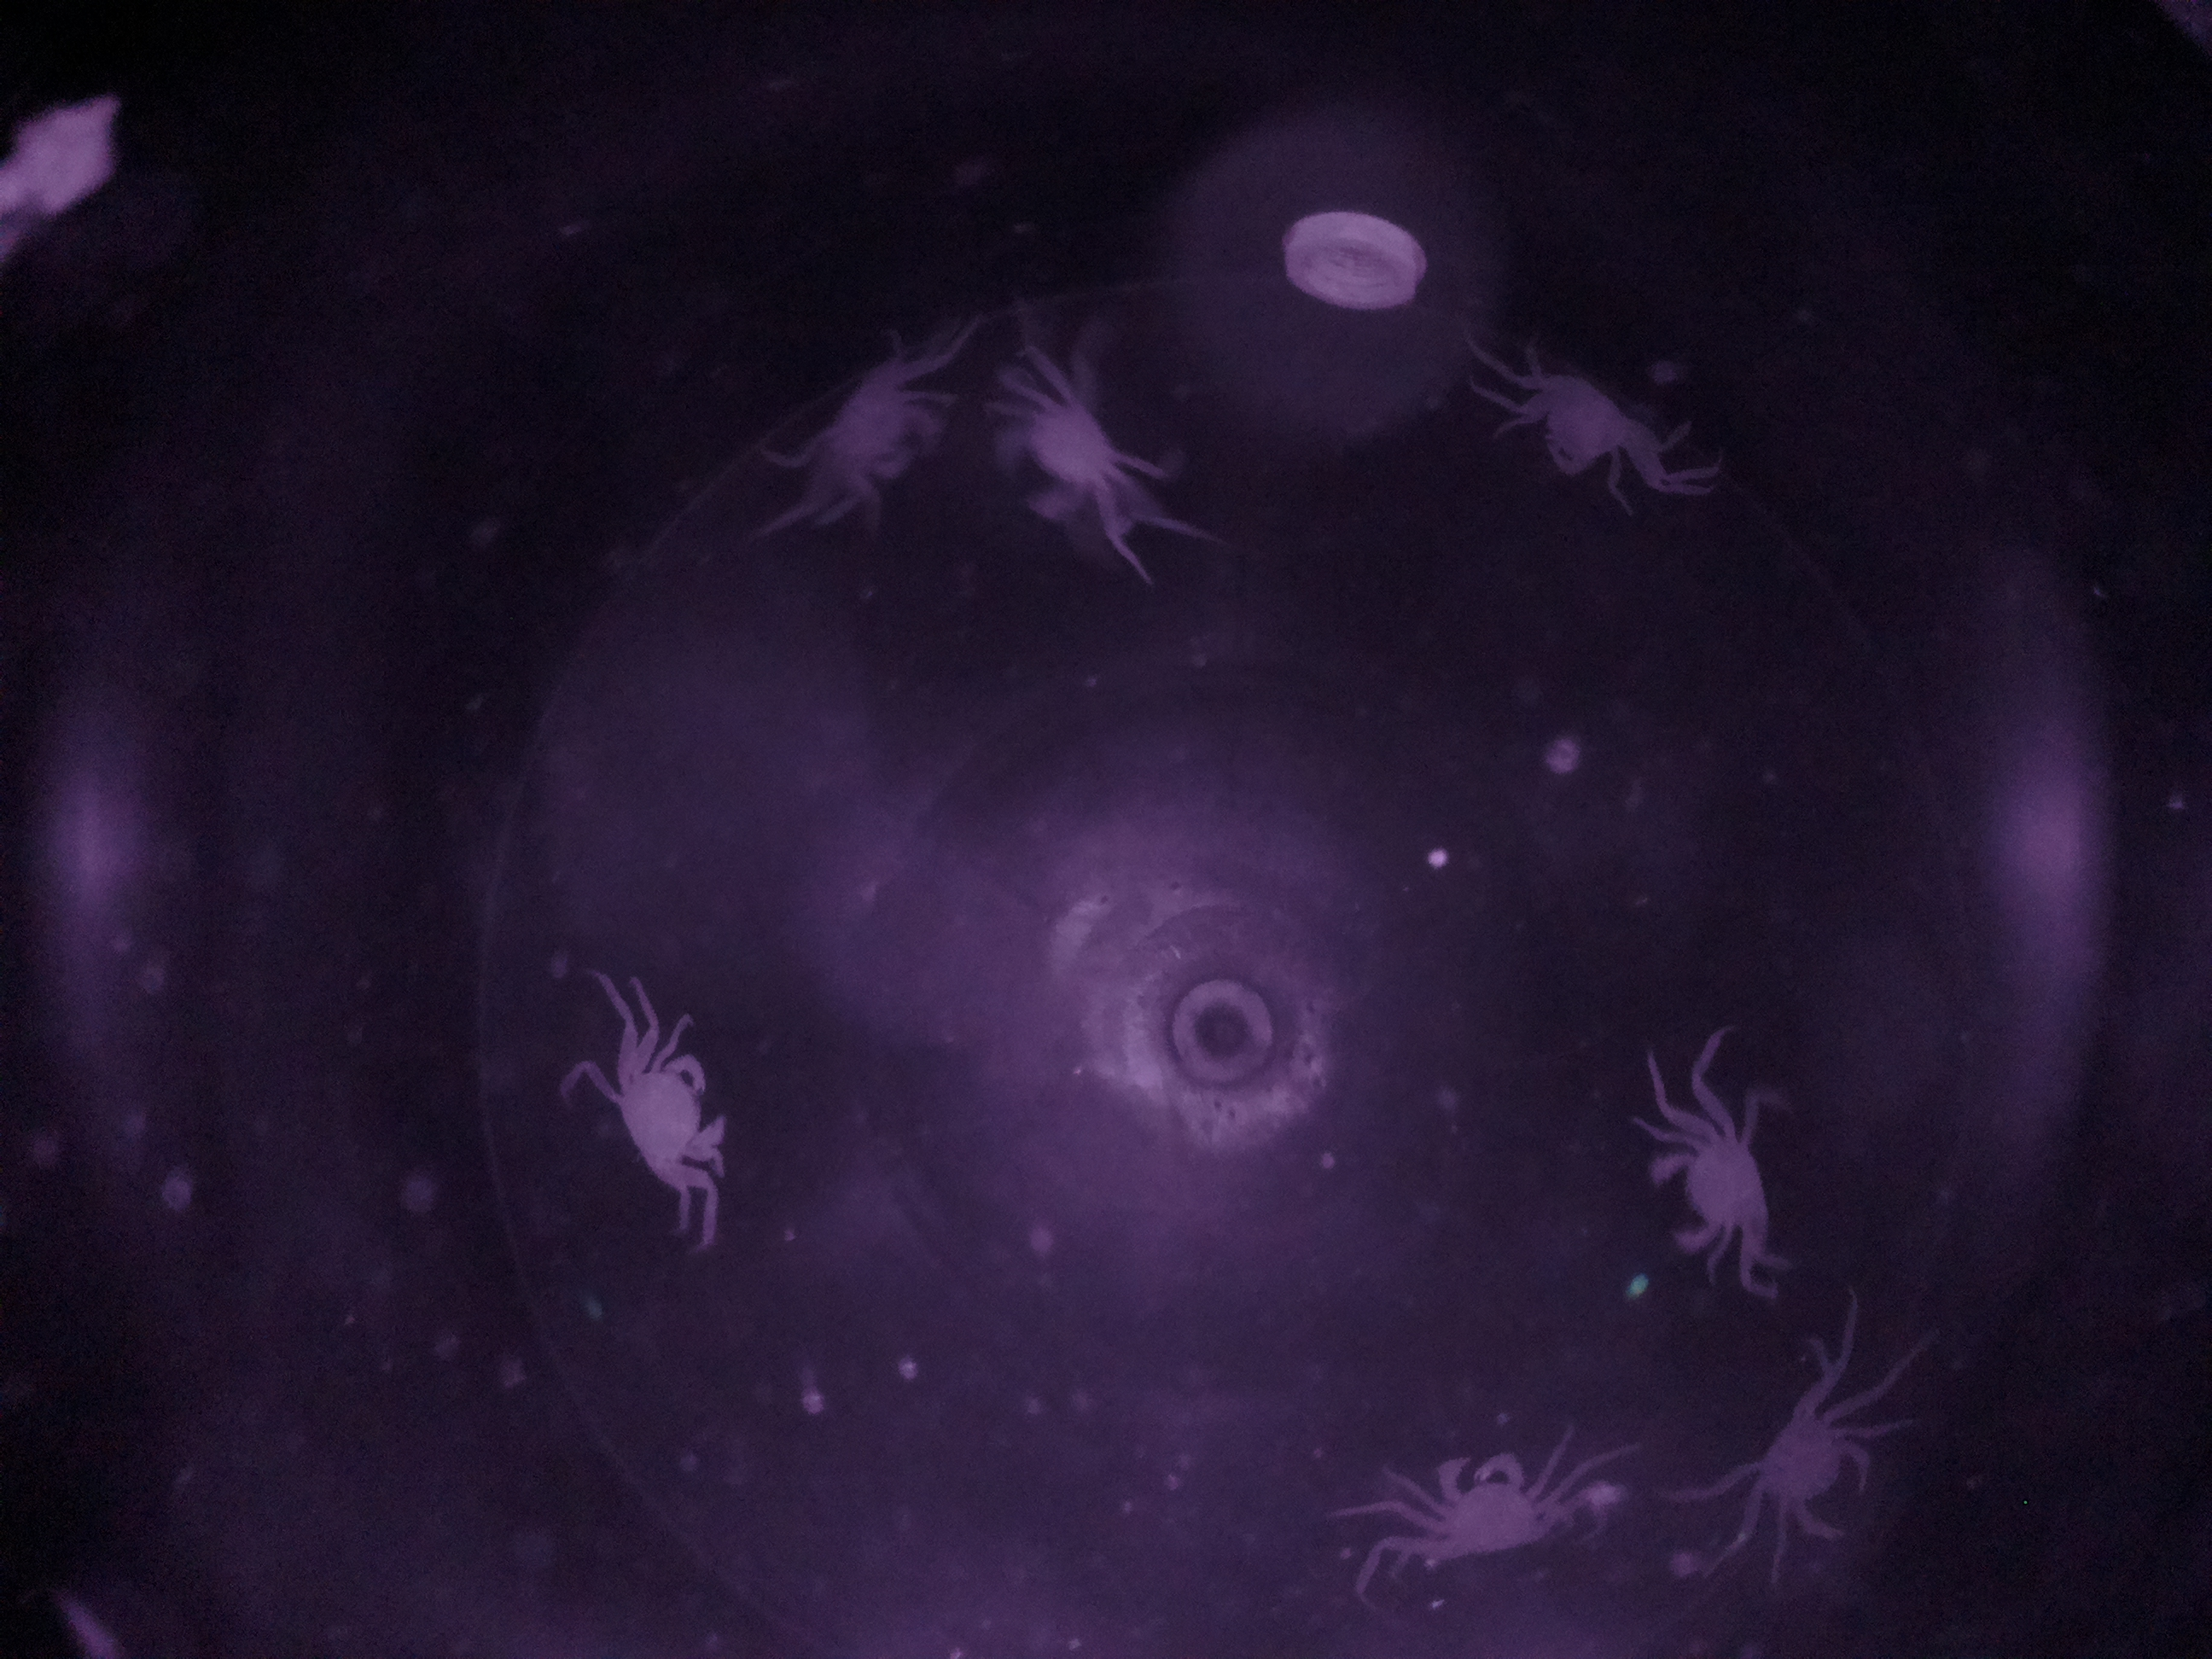Crab: (585, 1011, 745, 1211), (1716, 1370, 1883, 1554), (1390, 1427, 1580, 1589), (1644, 1100, 1787, 1293)
